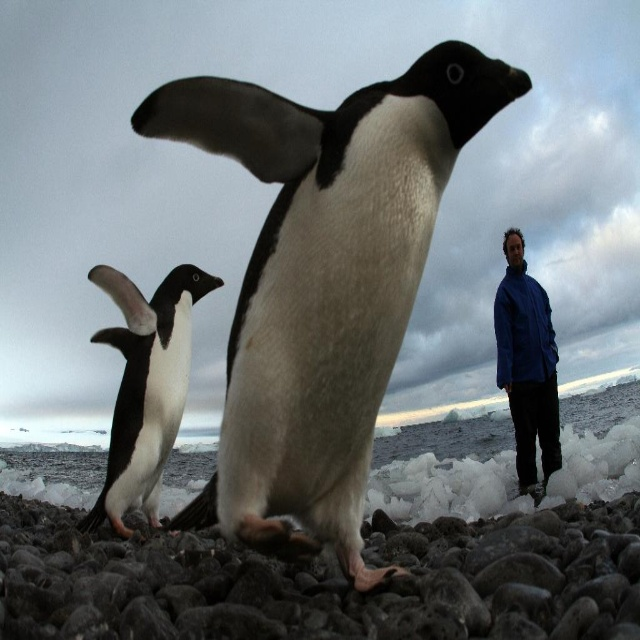Penguin: (130, 40, 532, 593), (77, 264, 225, 543)
